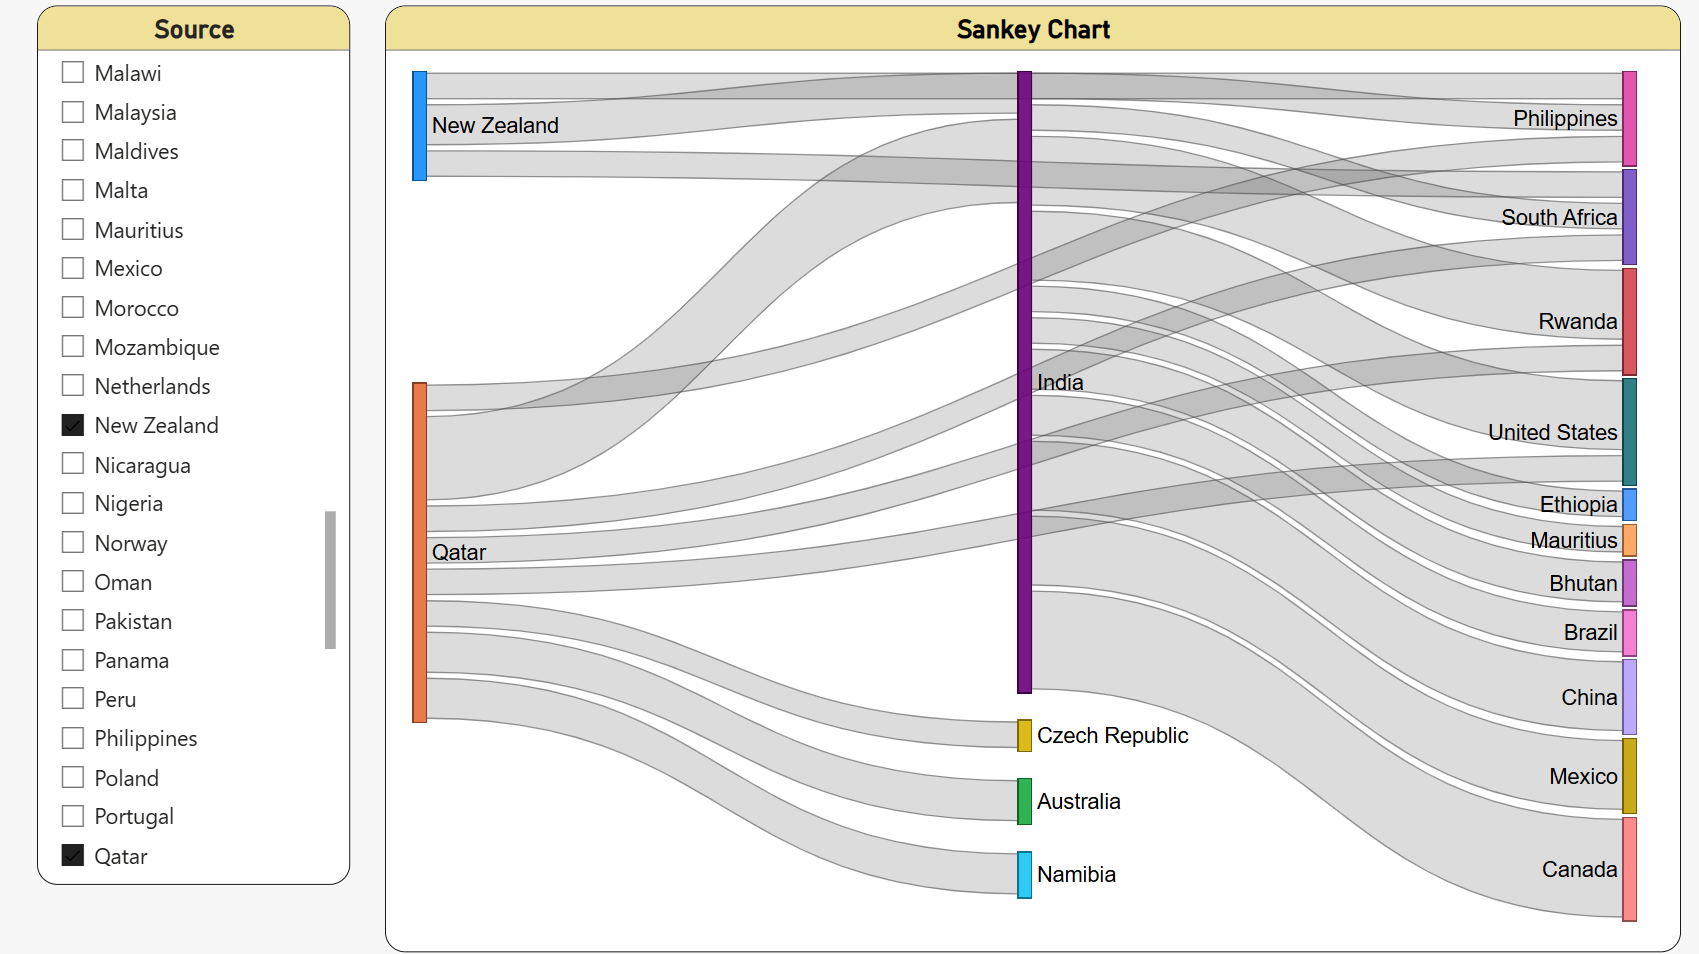

The page's visual inventory and layout, read from the dashboard file:
{"tool":"powerbi","page":{"name":"Sankey Chart","canvas":[1280,720],"ordinal":0},"visuals":[{"type":"sankey02300D1BE6F5427989F3DE31CCA9E0F32020","title":"Sankey Chart","fields":{"Source":["cleaned_covid19_sna 2.source"],"Destination":["cleaned_covid19_sna 2.target"],"Weight":["Avg(cleaned_covid19_sna 2.weight)"]},"box":[300,10,960,701.4],"z":0},{"type":"slicer","title":"Source","fields":{"Values":["cleaned_covid19_sna 2.source"]},"box":[42.2,10,232.2,651.1],"z":1000}]}

Visuals, with their boxes in screenshot pixels (x1, y1, x2, y2), scaled from the page's 1280x720 canvas onto the 1699x954 screenshot:
"Sankey Chart" sankey02300D1BE6F5427989F3DE31CCA9E0F32020: bbox=[398, 13, 1672, 943]
"Source" slicer: bbox=[56, 13, 364, 876]
